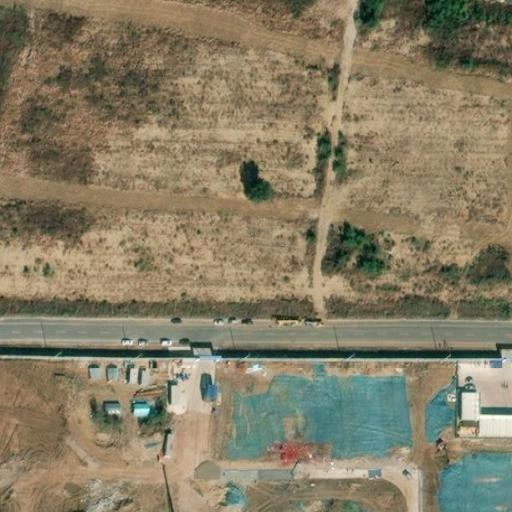building: (477, 415, 512, 435), (165, 379, 184, 407), (460, 393, 479, 419), (131, 399, 153, 416), (85, 363, 102, 380)
